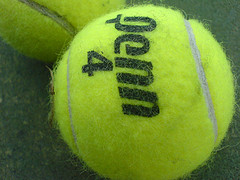tennis ball: (49, 4, 236, 179), (1, 1, 125, 63)
